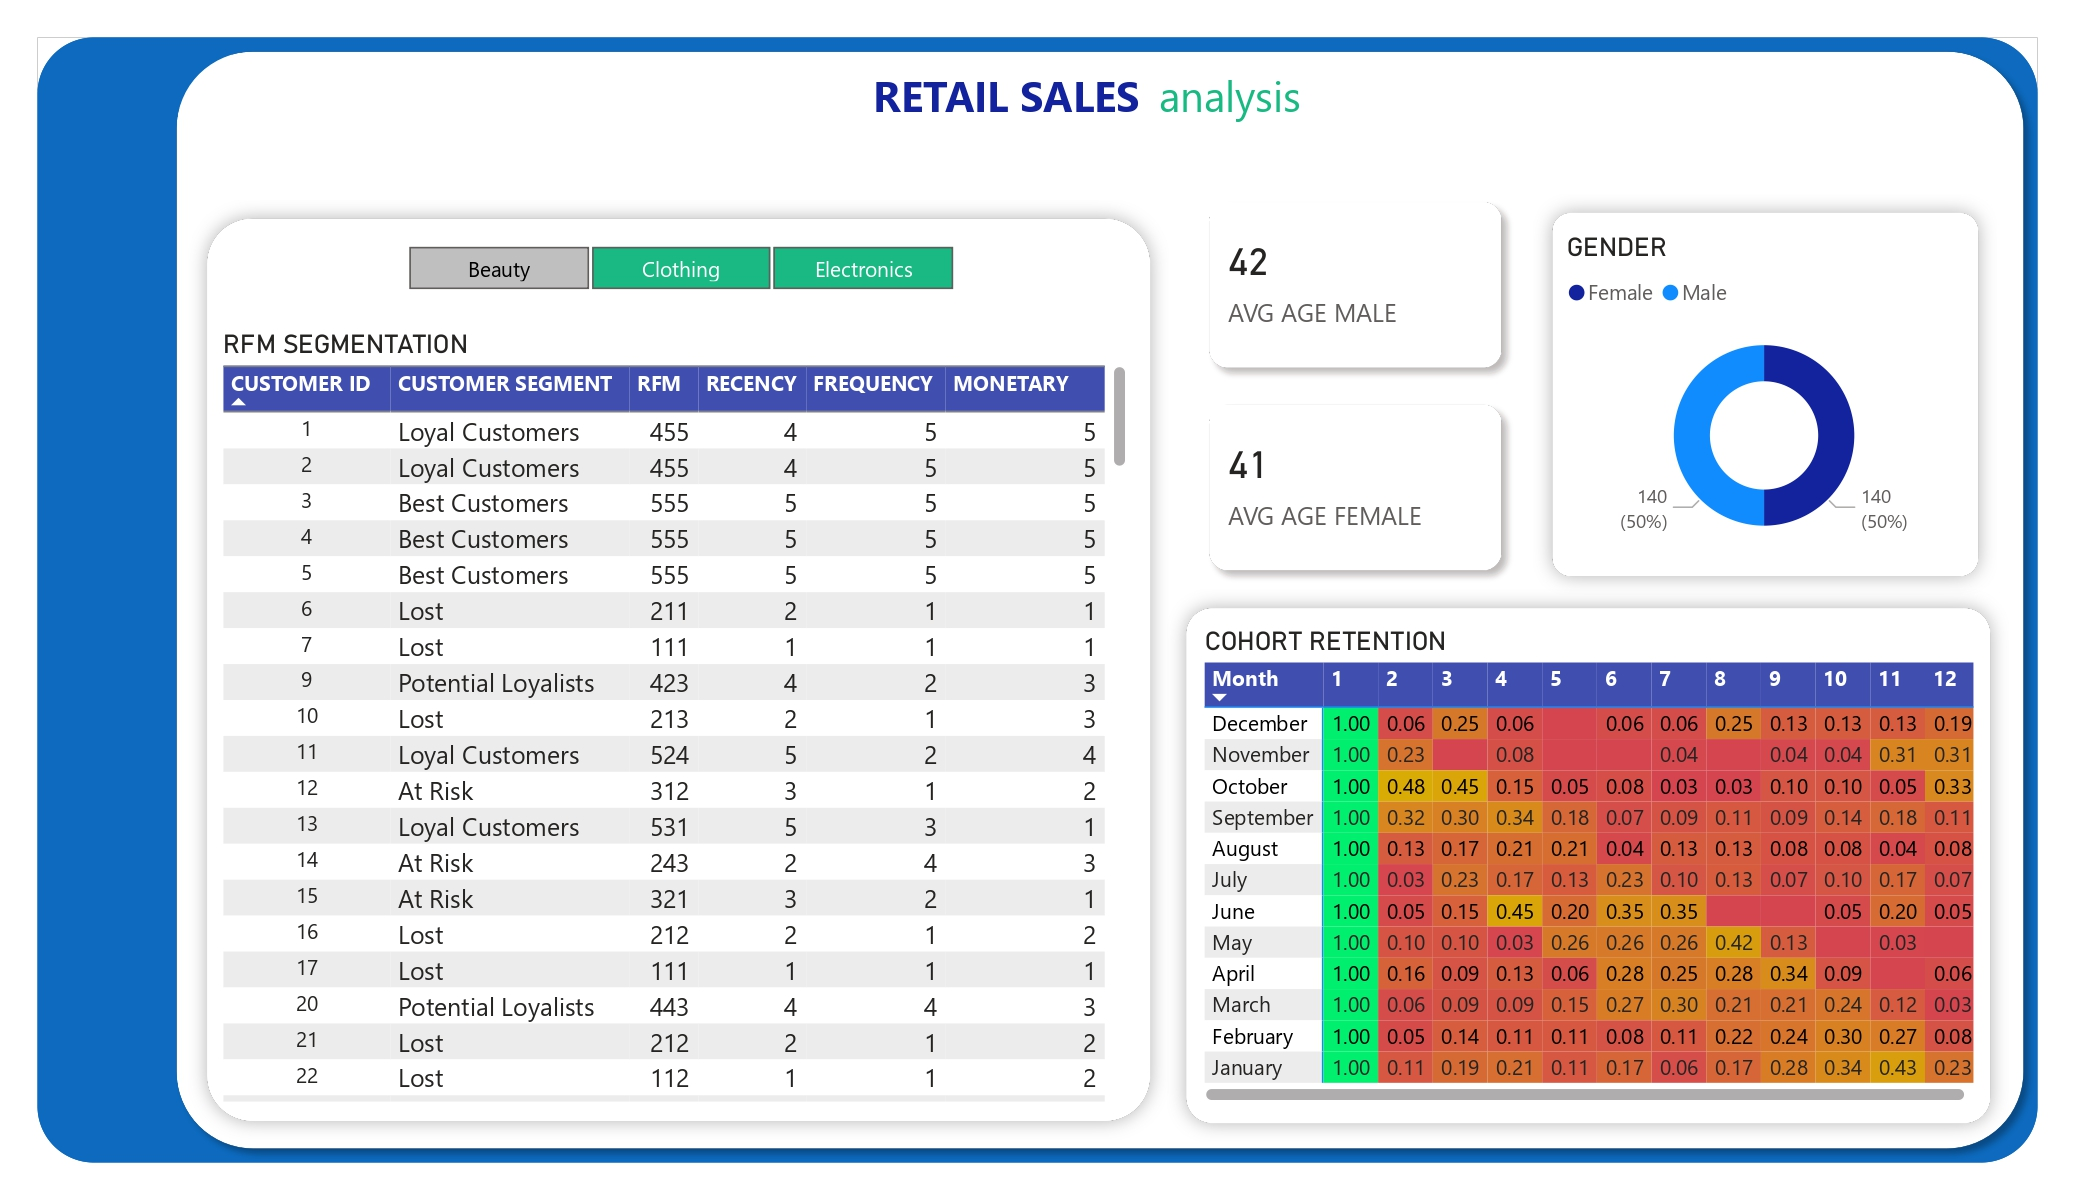

This screenshot's page, from the dashboard's own definition file:
{"tool":"powerbi","page":{"name":"Category","canvas":[1280,720],"ordinal":1},"visuals":[{"type":"shape","box":[0,0,1280,720],"z":0},{"type":"shape","box":[80,0,1200,720],"z":1000},{"type":"textbox","box":[530,14,284,54],"z":2000},{"type":"shape","box":[723.3,103.3,241.7,250],"z":4000},{"type":"cardVisual","fields":{"Data":["SQL - Retail Sales Analysis_utf.avg age","SQL - Retail Sales Analysis_utf.AVG AGE FEMALE"]},"box":[733.3,88.3,223.3,270],"z":5000},{"type":"shape","box":[956.7,100,296.7,256.7],"z":7000,"group":"g1"},{"type":"group","id":"g1","title":"Group 1","box":[956.7,100,296.7,256.7],"z":7000},{"type":"donutChart","title":"GENDER","fields":{"Category":["SQL - Retail Sales Analysis_utf.gender"],"Y":["SQL - Retail Sales Analysis_utf.TOTAL CUSTOMER"]},"box":[973.4,124,262,212],"z":8000,"group":"g1"},{"type":"shape","box":[96,104,628,602],"z":8000},{"type":"pivotTable","title":"RFM SEGMENTATION","fields":{"Rows":["retail_clean.customer_id"],"Values":["Min(retail_clean.CustomerSegment)","Sum(retail_clean.RFMScore)","Sum(retail_clean.RecencyScore)","Sum(retail_clean.FrequencyScore)","Sum(retail_clean.MonetaryScore)"]},"box":[114,186,588,500],"z":9000},{"type":"shape","box":[723.3,353.3,538.3,353.3],"z":10000},{"type":"pivotTable","title":"COHORT RETENTION","fields":{"Columns":["cohort.CohortIndex"],"Values":["select","cohort.Retention %"],"Rows":["cohort.CohortMonth.Variation.Date Hierarchy.Month"]},"box":[742,376,502,310],"z":10500},{"type":"slicer","fields":{"Values":["retail_clean.category"]},"box":[211.7,126.7,398.3,40],"z":11000}]}

Visuals, with their boxes in screenshot pixels (x1, y1, x2, y2):
shape: <box>38,38,2038,1162</box>
shape: <box>162,38,2038,1162</box>
textbox: <box>866,59,1309,144</box>
shape: <box>1168,199,1545,590</box>
cardVisual - SQL - Retail Sales Analysis_utf.avg age x SQL - Retail Sales Analysis_utf.AVG AGE FEMALE: <box>1183,175,1532,597</box>
shape: <box>1532,194,1996,595</box>
"Group 1" group: <box>1532,194,1996,595</box>
"GENDER" donutChart: <box>1558,231,1968,562</box>
shape: <box>188,200,1169,1141</box>
"RFM SEGMENTATION" pivotTable: <box>216,328,1134,1109</box>
shape: <box>1168,590,2009,1142</box>
"COHORT RETENTION" pivotTable: <box>1197,625,1981,1109</box>
slicer - retail_clean.category: <box>368,235,991,298</box>
